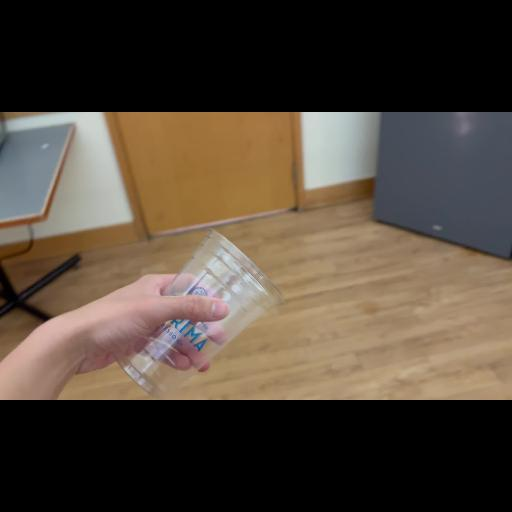lp_plastic_cup: (86, 218, 276, 392)
